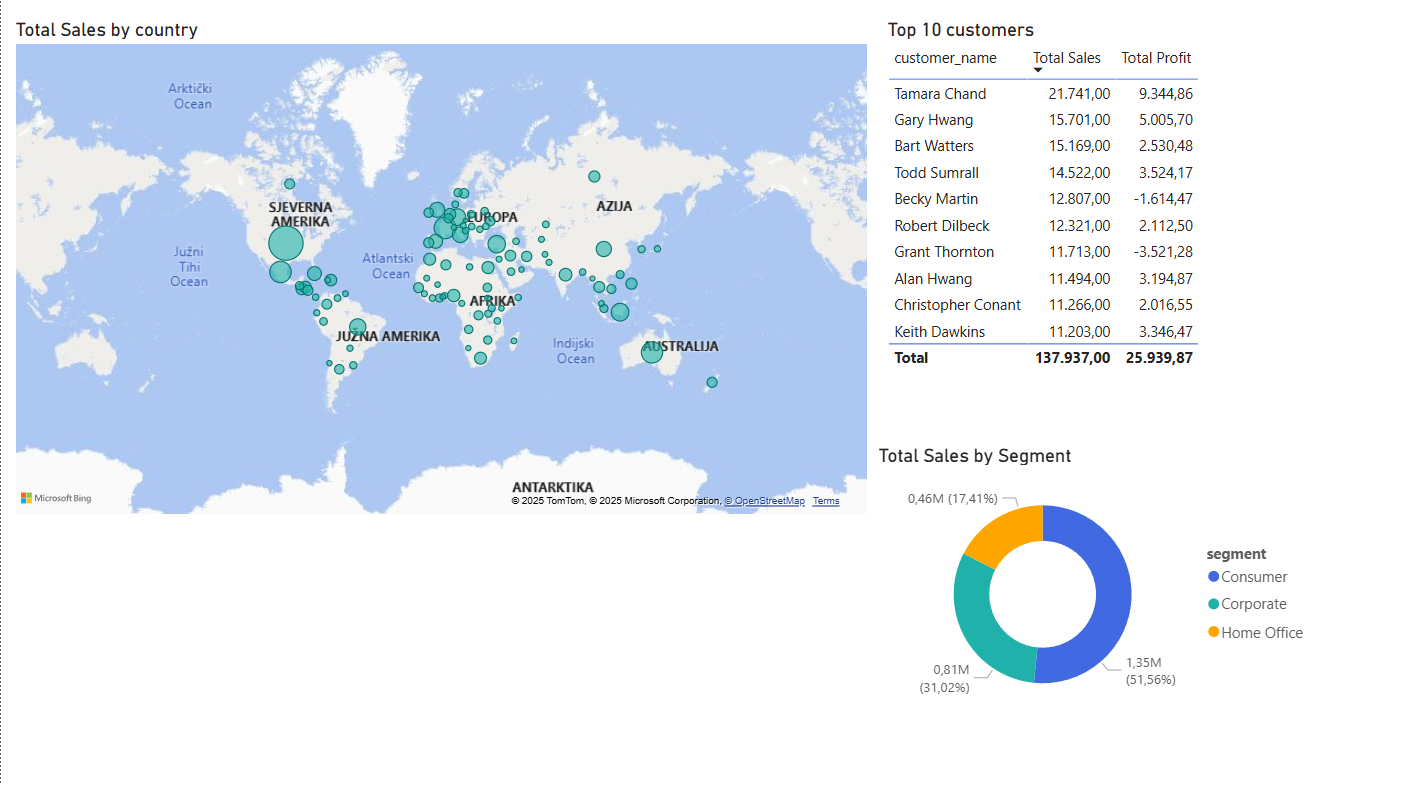

What the dashboard file says about the page in this screenshot:
{"tool":"powerbi","page":{"name":"Customer Analysis","canvas":[1280,720],"ordinal":2},"visuals":[{"type":"map","fields":{"Category":["superstore_dw dim_customer.country"],"Size":["superstore_dw fact_sales.Total Sales"]},"box":[8.3,24.9,782.4,455.2],"z":0},{"type":"donutChart","title":"Total Sales by Segment","fields":{"Y":["superstore_dw fact_sales.Total Sales"],"Category":["superstore_dw dim_customer.segment"]},"box":[790.6,410.9,404.7,253.6],"z":1000},{"type":"tableEx","title":"Top 10 customers","fields":{"Values":["superstore_dw dim_customer.customer_name","superstore_dw fact_sales.Total Sales","superstore_dw fact_sales.Total Profit"]},"box":[799,24.9,325.3,354.8],"z":2000}]}

Visuals, with their boxes in screenshot pixels (x1, y1, x2, y2), scaled from the page's 1280x720 canvas onto the 1413x785 screenshot:
map - superstore_dw dim_customer.country x superstore_dw fact_sales.Total Sales: bbox=(9, 27, 873, 523)
"Total Sales by Segment" donutChart: bbox=(873, 448, 1319, 724)
"Top 10 customers" tableEx: bbox=(882, 27, 1241, 414)
